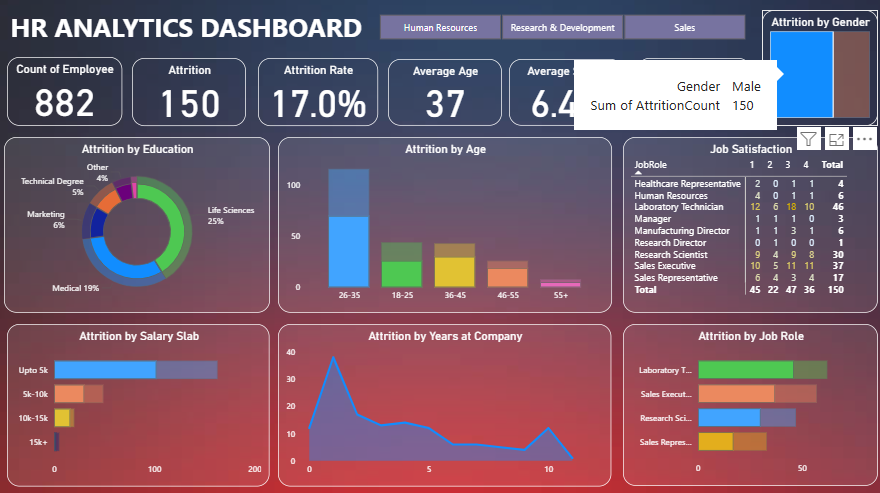

This screenshot's page, from the dashboard's own definition file:
{"tool":"powerbi","page":{"name":"Page 1","canvas":[1280,720],"ordinal":0},"visuals":[{"type":"card","title":"Count of Employee","fields":{"Values":["CountNonNull(HR_Analytics.EmpID)"]},"box":[15.8,89.3,165.6,99.4],"z":0},{"type":"card","title":"Attrition","fields":{"Values":["Sum(HR_Analytics.Attrition count)"]},"box":[195.8,90.7,164.2,97.9],"z":1000},{"type":"card","title":"Attrition Rate","fields":{"Values":["HR_Analytics.AttritionRate"]},"box":[377.3,90.7,172.8,97.9],"z":2000},{"type":"card","title":"Average Age","fields":{"Values":["Avg(HR_Analytics.Age)"]},"box":[564.5,92.2,164.2,96.5],"z":3000},{"type":"card","title":"Average Years","fields":{"Values":["Avg(HR_Analytics.YearsAtCompany)"]},"box":[923,90.7,164.2,96.5],"z":4000},{"type":"card","title":"Average Salary","fields":{"Values":["Avg(HR_Analytics.MonthlyIncome)"]},"box":[738.7,92.2,164.2,96.5],"z":5000},{"type":"donutChart","title":"Attrition by Education","fields":{"Y":["CountNonNull(HR_Analytics.Attrition)"],"Category":["HR_Analytics.EducationField"]},"box":[11.5,204.5,383,253.4],"z":6000},{"type":"columnChart","title":"Attrition by Age","fields":{"Category":["HR_Analytics.AgeGroup"],"Y":["Sum(HR_Analytics.AttritionCount)"]},"box":[406.1,204.5,481,253.4],"z":7000},{"type":"barChart","title":"Attrition by Salary Slab","fields":{"Y":["Sum(HR_Analytics.AttritionCount)"],"Category":["HR_Analytics.SalarySlab"]},"box":[15.1,473.5,378.5,234],"z":8000},{"type":"areaChart","title":"Attrition by Years at Company","fields":{"Category":["HR_Analytics.YearsAtCompany"],"Y":["Sum(HR_Analytics.AttritionCount)"]},"box":[406,473.5,480.3,234],"z":9000},{"type":"pivotTable","title":"Job Satisfaction","fields":{"Rows":["HR_Analytics.JobRole"],"Columns":["HR_Analytics.JobSatisfaction"],"Values":["Sum(HR_Analytics.AttritionCount)"]},"box":[902.9,205.1,367.5,253.2],"z":10000},{"type":"barChart","title":"Attrition by Job Role","fields":{"Y":["Sum(HR_Analytics.AttritionCount)"],"Category":["HR_Analytics.JobRole"]},"box":[902.9,473.8,367.2,233.3],"z":11000},{"type":"treemap","title":"Attrition by Gender","fields":{"Group":["HR_Analytics.Gender"],"Values":["Sum(HR_Analytics.AttritionCount)"]},"box":[1103,21.6,167,167],"z":12000},{"type":"slicer","fields":{"Values":["HR_Analytics.Department"]},"box":[527,21.6,576,49],"z":13000},{"type":"textbox","box":[15.8,15.8,522.7,60.5],"z":14000}]}

Visuals, with their boxes in screenshot pixels (x1, y1, x2, y2), scaled from the page's 1280x720 canvas onto the 880x493 screenshot:
"Count of Employee" card: <bbox>11, 61, 125, 129</bbox>
"Attrition" card: <bbox>135, 62, 248, 129</bbox>
"Attrition Rate" card: <bbox>259, 62, 378, 129</bbox>
"Average Age" card: <bbox>388, 63, 501, 129</bbox>
"Average Years" card: <bbox>635, 62, 747, 128</bbox>
"Average Salary" card: <bbox>508, 63, 621, 129</bbox>
"Attrition by Education" donutChart: <bbox>8, 140, 271, 314</bbox>
"Attrition by Age" columnChart: <bbox>279, 140, 610, 314</bbox>
"Attrition by Salary Slab" barChart: <bbox>10, 324, 271, 484</bbox>
"Attrition by Years at Company" areaChart: <bbox>279, 324, 609, 484</bbox>
"Job Satisfaction" pivotTable: <bbox>621, 140, 873, 314</bbox>
"Attrition by Job Role" barChart: <bbox>621, 324, 873, 484</bbox>
"Attrition by Gender" treemap: <bbox>758, 15, 873, 129</bbox>
slicer - HR_Analytics.Department: <bbox>362, 15, 758, 48</bbox>
textbox: <bbox>11, 11, 370, 52</bbox>
